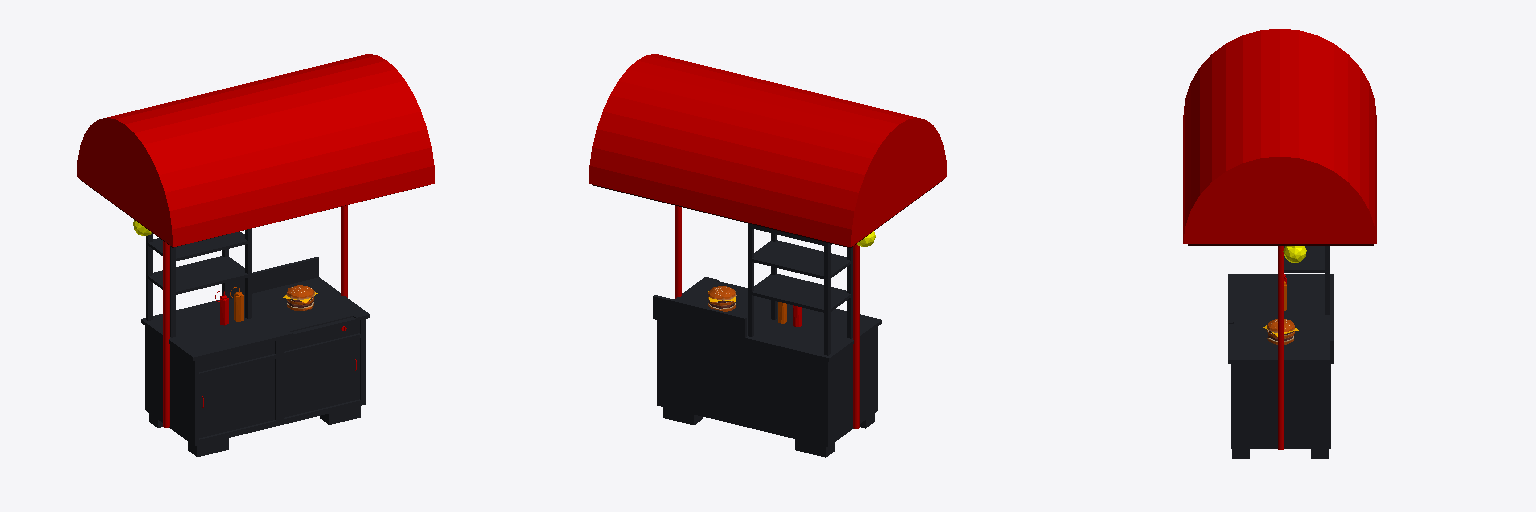
3 renders of one model, left to right at view 1: azimuth 30°, elevation 25°; view 2: azimuth 150°, elevation 25°; view 3: azimuth 270°, elevation 25°, orthographic.
Parts seen in each view (by area): view 1: Cylinder.001, Cube_Cube.005, Cube.001, Cube.003, Cylinder, Cube.004, Hamburguer_low; view 2: Cylinder.001, Cube_Cube.005, Cube.001, Cylinder, Cube.004, Cube.003, Hamburguer_low; view 3: Cylinder.001, Cube_Cube.005, Cube.003, Cylinder, Cube.001.
Boxes of the visible parts, x1=… form: Cylinder.001: x1=77, y1=54, x2=434, y2=246; Cube_Cube.005: x1=141, y1=257, x2=369, y2=445; Cube.001: x1=146, y1=229, x2=251, y2=337; Cube.003: x1=252, y1=287, x2=353, y2=349; Cylinder: x1=163, y1=205, x2=347, y2=427; Cube.004: x1=149, y1=406, x2=360, y2=456; Hamburguer_low: x1=283, y1=285, x2=317, y2=310; Cylinder.001: x1=589, y1=54, x2=946, y2=246; Cube_Cube.005: x1=653, y1=277, x2=881, y2=446; Cube.001: x1=748, y1=223, x2=852, y2=355; Cylinder: x1=675, y1=206, x2=859, y2=428; Cube.004: x1=663, y1=407, x2=874, y2=457; Cube.003: x1=688, y1=282, x2=770, y2=320; Hamburguer_low: x1=708, y1=286, x2=736, y2=311; Cylinder.001: x1=1183, y1=29, x2=1376, y2=243; Cube_Cube.005: x1=1228, y1=274, x2=1333, y2=448; Cube.003: x1=1234, y1=322, x2=1311, y2=353; Cylinder: x1=1278, y1=246, x2=1283, y2=449; Cube.001: x1=1284, y1=246, x2=1329, y2=314.
Size of the model in its own units: 6.07 by 7.23 by 3.87.
6 materials, 1 textured.